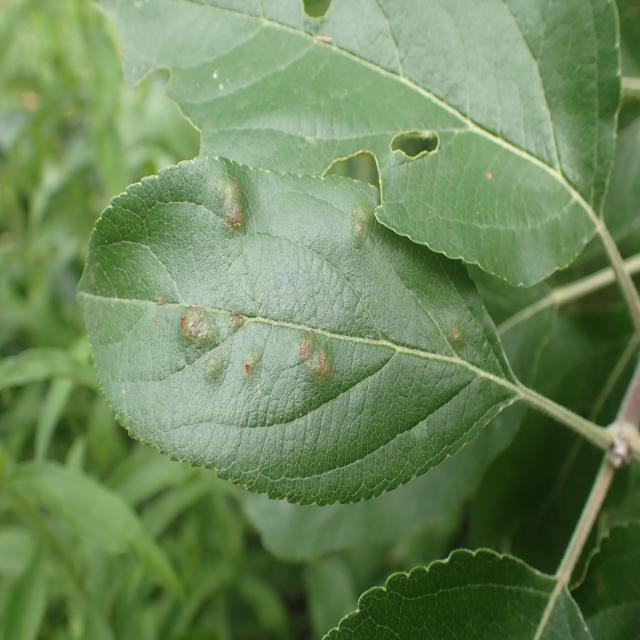scab: (143, 165, 521, 458)
